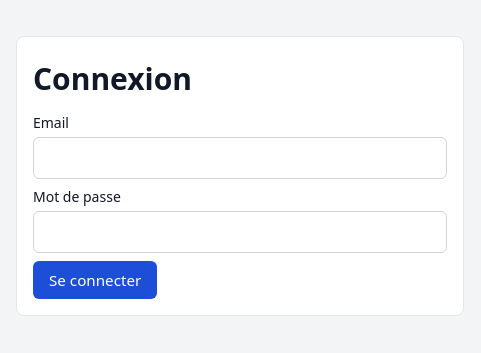
Test: Login › affiche le message d’erreur de l’API
Type "x@test.com" into the field labelled "Email" at (240, 158), box [33,137,447,179]
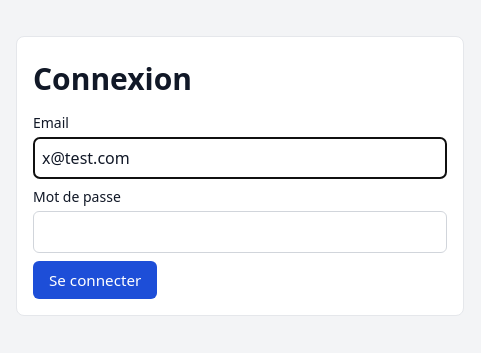
Type "wrong" into the password field labelled "Mot de passe" at (240, 232), box [33,211,447,253]
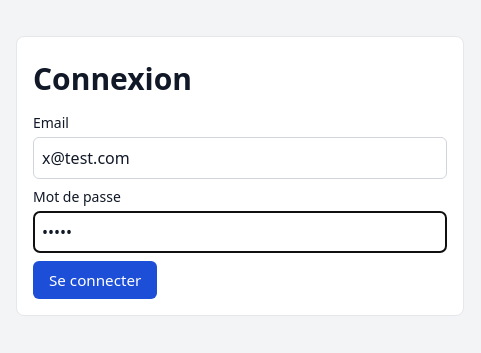
Click the button "Se connecter" at (95, 280), box [33,261,157,299]
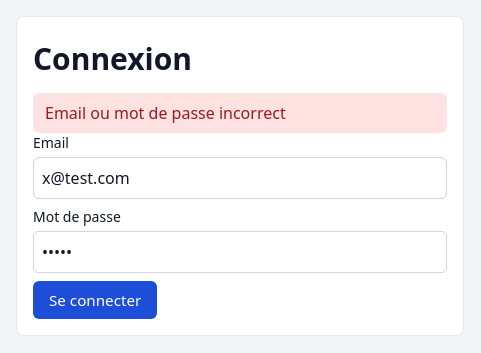
Expected: the text "Email ou mot de passe incorrect" is shown, [33,93,447,133]
